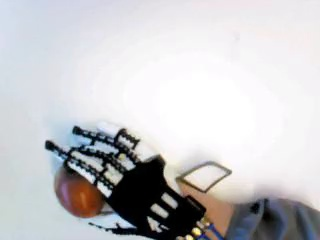apple: (52, 159, 107, 218)
hand: (44, 120, 210, 240)
